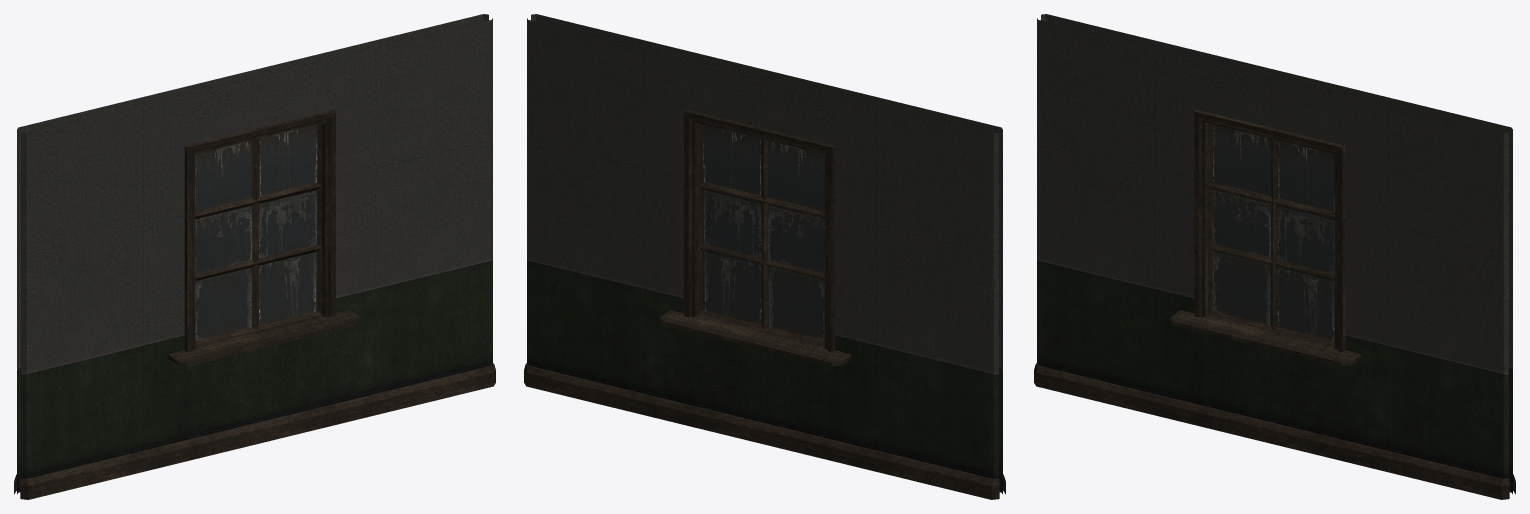
File: window_2_1_single.obj
3 views of the same model, side by side, from view 1: azimuth 30°, elevation 25°; view 2: azimuth 150°, elevation 25°; view 3: azimuth 330°, elevation 25° (orthographic).
Parts seen in each view (by area): view 1: window_2_1_single; view 2: window_2_1_single; view 3: window_2_1_single.
Part boxes in pixels (left/top/right/bottom): window_2_1_single: left=14, top=14, right=495, bottom=499; window_2_1_single: left=524, top=14, right=1005, bottom=499; window_2_1_single: left=1034, top=14, right=1515, bottom=499.
Bounding box in the file's own units: 4.09 × 3 × 0.52.
